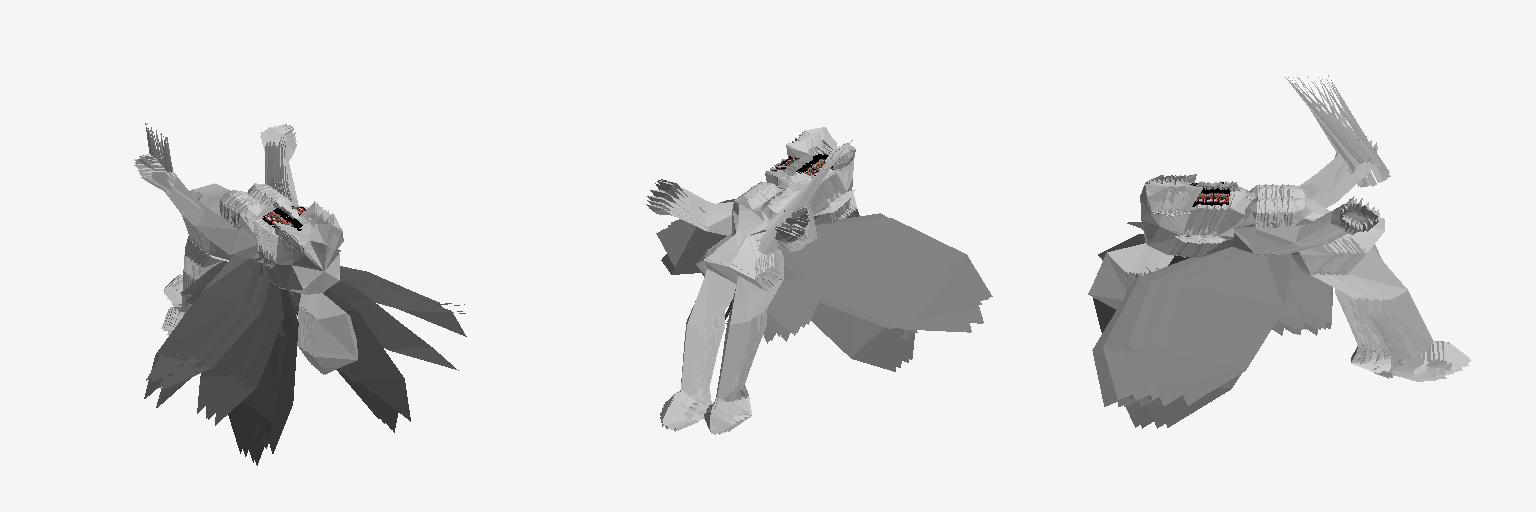
3 renders of one model, left to right at view 1: azimuth 30°, elevation 25°; view 2: azimuth 150°, elevation 25°; view 3: azimuth 270°, elevation 25°, orthographic.
Parts seen in each view (by area): view 1: fr_19, fr_18, fr_11, fr_00, fr_08, fr_17, fr_13, fr_07, fr_16, fr_12, fr_02, fr_10 (+8 smaller); view 2: fr_11, fr_09, fr_10, fr_07, fr_08, fr_12, fr_06, fr_02, fr_16, fr_17, fr_18, fr_05 (+7 smaller); view 3: fr_11, fr_18, fr_19, fr_10, fr_07, fr_00, fr_06, fr_09, fr_02, fr_12, fr_13, fr_16 (+8 smaller).
Boxes of the visible parts, x1=… form: fr_19: x1=151, y1=136, x2=410, y2=453; fr_18: x1=151, y1=134, x2=458, y2=425; fr_11: x1=134, y1=123, x2=401, y2=398; fr_00: x1=152, y1=139, x2=398, y2=465; fr_08: x1=138, y1=127, x2=351, y2=413; fr_17: x1=148, y1=135, x2=465, y2=390; fr_13: x1=139, y1=124, x2=397, y2=418; fr_07: x1=139, y1=124, x2=464, y2=380; fr_16: x1=146, y1=132, x2=465, y2=407; fr_12: x1=138, y1=124, x2=459, y2=382; fr_02: x1=150, y1=132, x2=462, y2=388; fr_10: x1=135, y1=130, x2=379, y2=453; fr_11: x1=656, y1=142, x2=970, y2=430; fr_09: x1=647, y1=141, x2=909, y2=433; fr_10: x1=646, y1=140, x2=898, y2=433; fr_07: x1=650, y1=141, x2=977, y2=434; fr_08: x1=647, y1=142, x2=897, y2=434; fr_12: x1=649, y1=138, x2=981, y2=421; fr_06: x1=655, y1=138, x2=971, y2=432; fr_02: x1=668, y1=132, x2=988, y2=415; fr_16: x1=685, y1=132, x2=982, y2=412; fr_17: x1=671, y1=129, x2=992, y2=413; fr_18: x1=691, y1=127, x2=887, y2=411; fr_05: x1=657, y1=136, x2=903, y2=431; fr_11: x1=1155, y1=76, x2=1469, y2=404; fr_18: x1=1093, y1=78, x2=1427, y2=399; fr_19: x1=1092, y1=77, x2=1426, y2=406; fr_10: x1=1156, y1=75, x2=1470, y2=427; fr_07: x1=1156, y1=76, x2=1453, y2=385; fr_00: x1=1088, y1=80, x2=1428, y2=427; fr_06: x1=1163, y1=77, x2=1446, y2=405; fr_09: x1=1139, y1=79, x2=1468, y2=406; fr_02: x1=1132, y1=78, x2=1419, y2=385; fr_12: x1=1146, y1=83, x2=1466, y2=384; fr_13: x1=1121, y1=83, x2=1462, y2=399; fr_16: x1=1133, y1=81, x2=1432, y2=404.
Bounding box in the file's own units: 983 × 821 × 1020.
Materials: 1 (1 with a texture image).